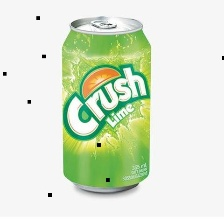can: (54, 12, 160, 195)
